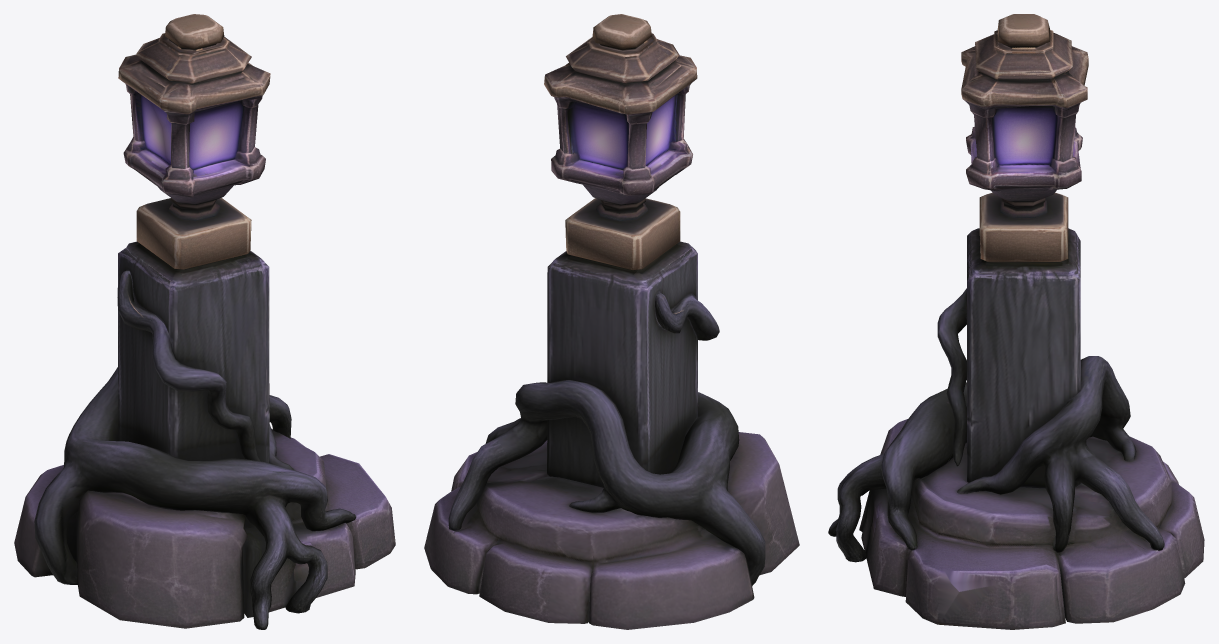
Rendered from lamp_1.glb.
3 renders of one model, left to right at view 1: azimuth 30°, elevation 25°; view 2: azimuth 150°, elevation 25°; view 3: azimuth 270°, elevation 25°, orthographic.
Visible parts, largest first — view 1: tripo_node_2d90945b-9c23-4eae-ac05-913c7bcc5d23; view 2: tripo_node_2d90945b-9c23-4eae-ac05-913c7bcc5d23; view 3: tripo_node_2d90945b-9c23-4eae-ac05-913c7bcc5d23.
Part boxes in pixels (x1,y1,x2,y2): tripo_node_2d90945b-9c23-4eae-ac05-913c7bcc5d23: [14, 14, 395, 629]; tripo_node_2d90945b-9c23-4eae-ac05-913c7bcc5d23: [424, 14, 799, 629]; tripo_node_2d90945b-9c23-4eae-ac05-913c7bcc5d23: [828, 14, 1204, 629].
Bounding box in the file's own units: 0.627 × 0.998 × 0.6465.
Materials: 1 (1 with a texture image).
